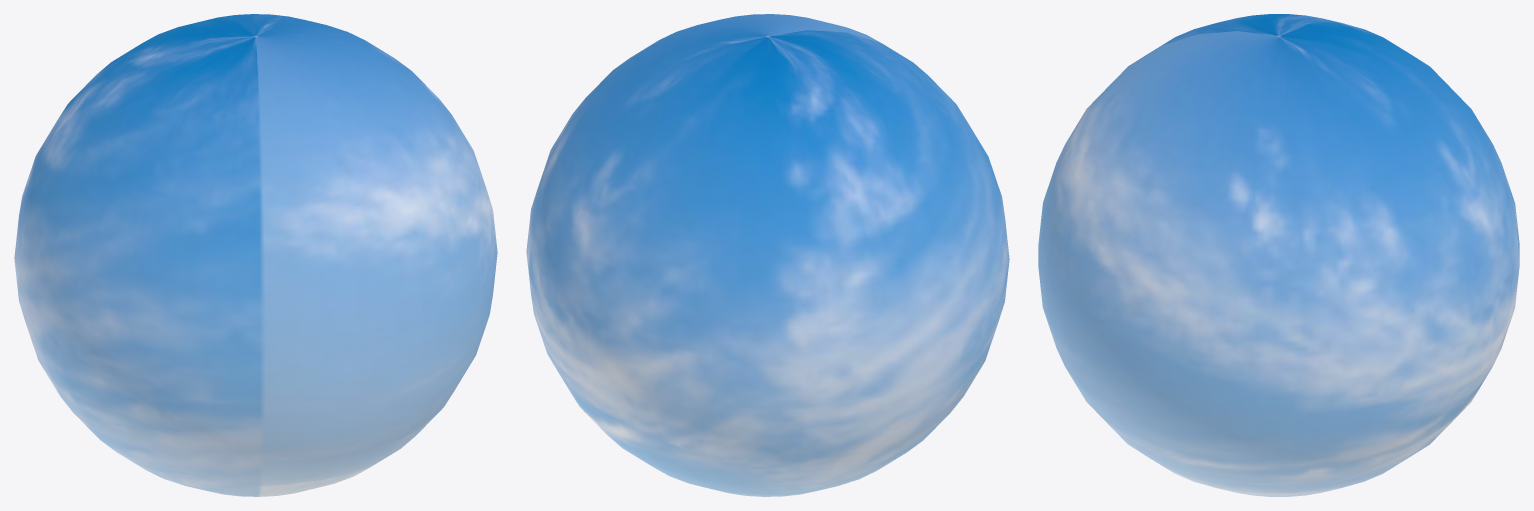
The model's file is IkemenQuickStop.glb.
3 views of the same model, side by side, from view 1: azimuth 30°, elevation 25°; view 2: azimuth 150°, elevation 25°; view 3: azimuth 270°, elevation 25° (orthographic).
Visible parts, largest first — view 1: Sphere; view 2: Sphere; view 3: Sphere.
Boxes of the visible parts, bbox=[...] form: Sphere: bbox=[14, 14, 497, 496]; Sphere: bbox=[526, 14, 1009, 496]; Sphere: bbox=[1038, 14, 1519, 496].
Size of the model in its own units: 1162 by 1167 by 1162.
Materials: 65 (65 with a texture image).
